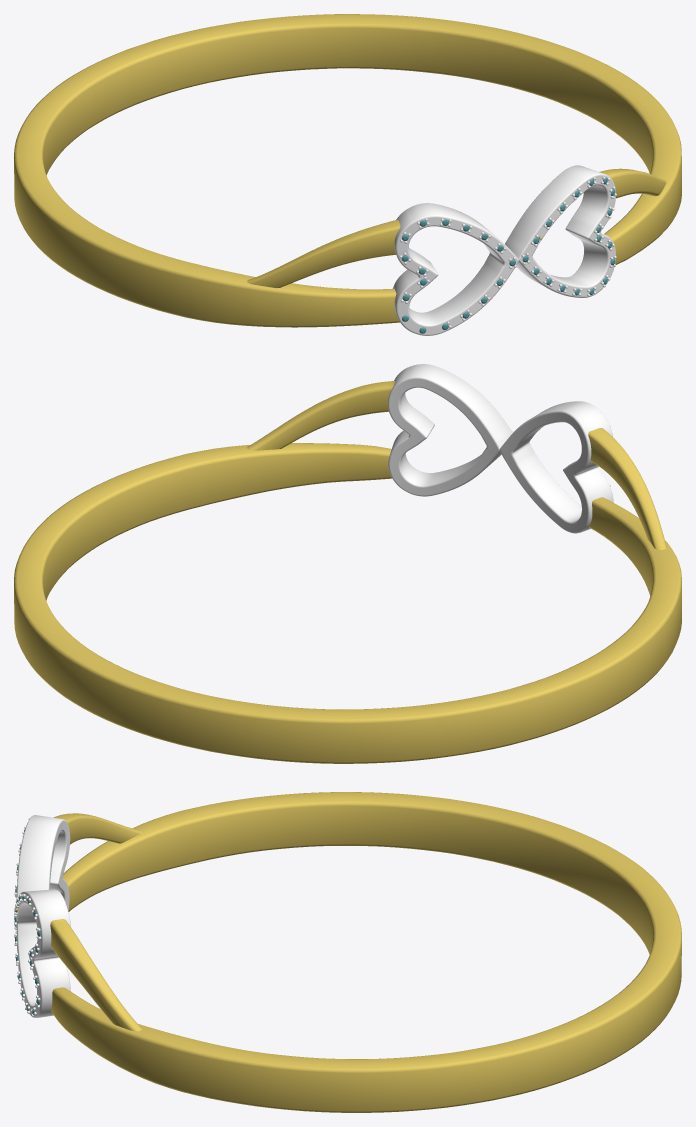
Rendered from Ring_04.glb.
3 views of the same model, one above another, from view 1: azimuth 30°, elevation 25°; view 2: azimuth 150°, elevation 25°; view 3: azimuth 270°, elevation 25° (orthographic).
Visible parts, largest first — view 1: Bracelate_2; view 2: Bracelate_2; view 3: Bracelate_2.
Boxes of the visible parts, <box> form: Bracelate_2: <box>14,14,681,335</box>; Bracelate_2: <box>14,364,681,763</box>; Bracelate_2: <box>14,792,681,1112</box>.
Size of the model in its own units: 0.9052 by 0.1821 by 0.9151.
